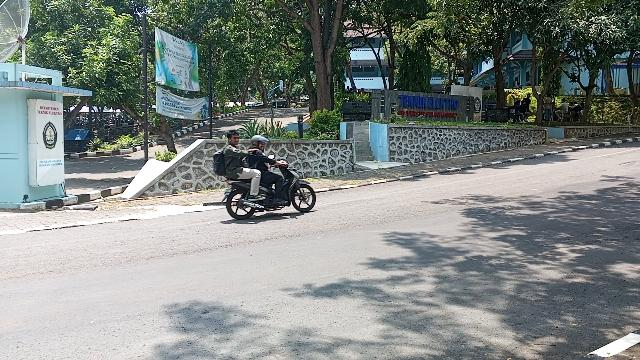helm: (251, 135, 271, 153)
motor: (222, 153, 318, 222)
non-helm: (227, 129, 241, 146)
